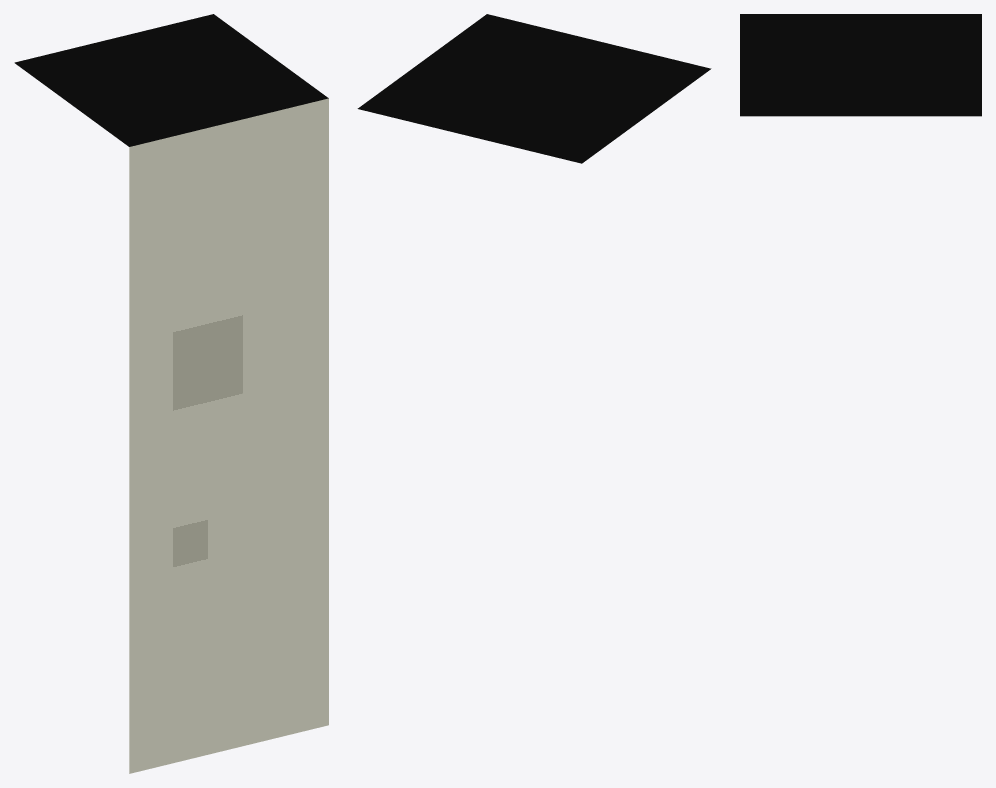
The picture shows the model from 3 angles, left to right: view 1: azimuth 30°, elevation 25°; view 2: azimuth 150°, elevation 25°; view 3: azimuth 270°, elevation 25°; orthographic projection. The views are drawn at different scales.
Bounding box in the file's own units: 1 × 3 × 1.
Materials: 2 (1 with a texture image).
